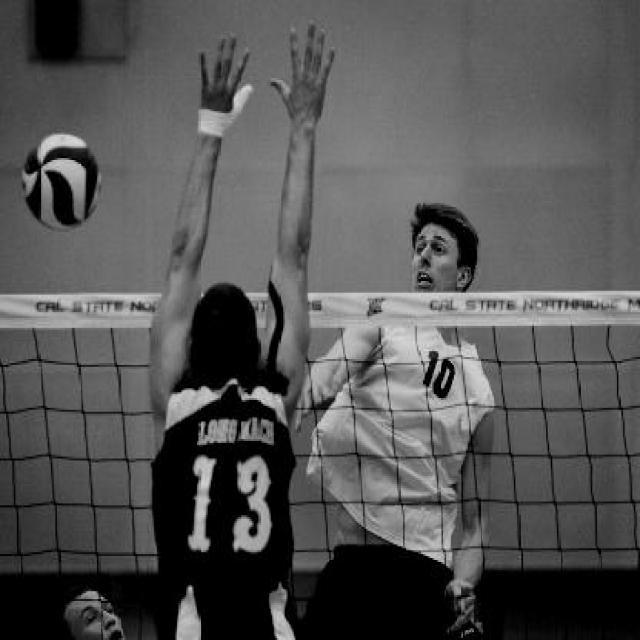volleyball: (20, 132, 101, 234)
